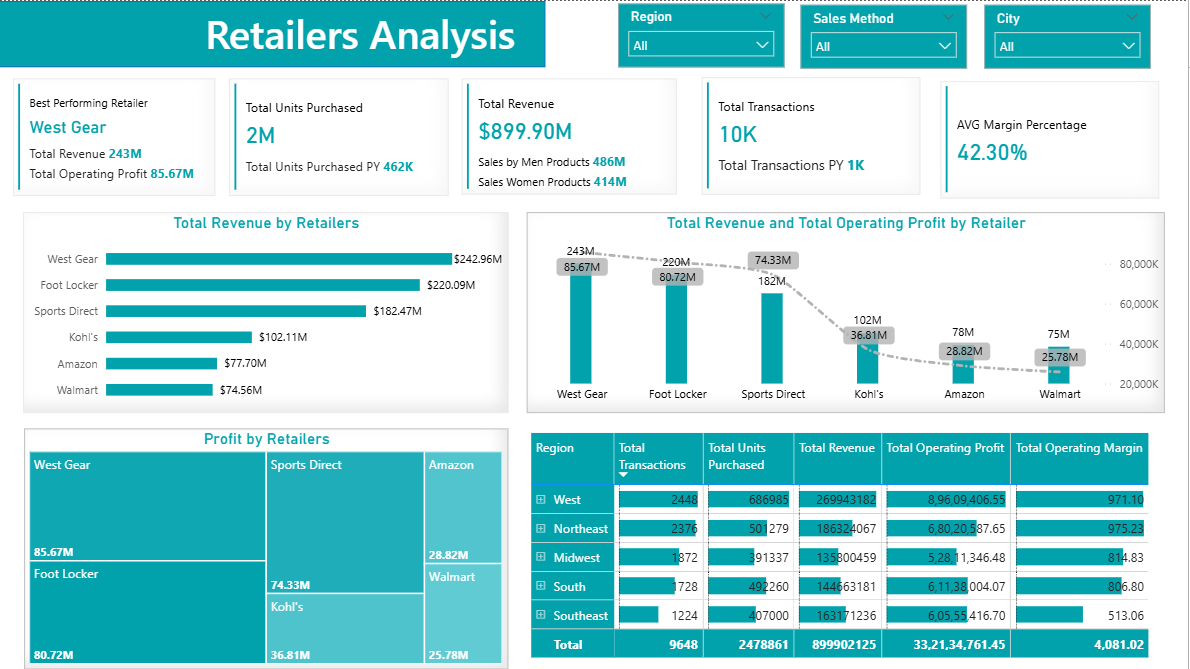

Layout of this report page (visuals, bound fields, positions):
{"tool":"powerbi","page":{"name":"Retailer Analysis","canvas":[1280,720],"ordinal":3},"visuals":[{"type":"textbox","box":[863.4,0,205.8,61.9],"z":0},{"type":"cardVisual","fields":{"Data":["Min(Sales Details.Retailer)"]},"box":[16.1,83.4,217.9,126.4],"z":1000},{"type":"cardVisual","fields":{"Data":["Measures Table.Total Transactions"]},"box":[757.1,82,235.3,126.4],"z":2000},{"type":"cardVisual","fields":{"Data":["Measures Table.AVG Margin Percentage"]},"box":[1014,86.1,235.3,126.4],"z":3000},{"type":"barChart","title":"Total Revenue by Retailers","fields":{"Category":["Sales Details.Retailer"],"Y":["Measures Table.Total Revenue"]},"box":[26.6,226.7,522.1,215.7],"z":4000},{"type":"lineStackedColumnComboChart","fields":{"Y":["Measures Table.Total Revenue"],"Y2":["Measures Table.Total Operating Profit"],"Category":["Sales Details.Retailer"]},"box":[569,226.7,686.3,215.7],"z":5000},{"type":"slicer","fields":{"Values":["Sales Details.Sales Method"]},"box":[863.4,4,178.9,68.6],"z":6000},{"type":"slicer","fields":{"Values":["Sales Details.Region"]},"box":[667,2.7,178.9,68.6],"z":7000},{"type":"slicer","fields":{"Values":["Sales Details.City"]},"box":[1061.1,4,178.9,68.6],"z":8000},{"type":"shape","box":[0,0,589,71.3],"z":9000},{"type":"textbox","box":[217.9,0,352.3,76.7],"z":10000},{"type":"cardVisual","fields":{"Data":["Measures Table.Total Revenue"]},"box":[498.7,82.9,231.4,125.1],"z":11000},{"type":"pivotTable","fields":{"Rows":["Sales Details.Region","Sales Details.Retailer"],"Values":["Measures Table.Total Transactions","Measures Table.Total Units Purchased","Measures Table.Total Revenue","Measures Table.Total Operating Profit","Sum(Sales Details.Operating Margin)"]},"box":[569,459.6,686.3,259.5],"z":12000},{"type":"treemap","title":"Profit by Retailers","fields":{"Values":["Measures Table.Total Operating Profit"],"Group":["Sales Details.Retailer"]},"box":[28.1,459.6,520.6,259.5],"z":13000},{"type":"cardVisual","fields":{"Data":["Measures Table.Total Units Purchased"]},"box":[248.6,82.9,236.1,126.6],"z":14000}]}

Visuals, with their boxes in screenshot pixels (x1, y1, x2, y2), scaled from the page's 1280x720 canvas onto the 1190x669 screenshot:
textbox: box=[803, 0, 994, 58]
cardVisual - Min(Sales Details.Retailer): box=[15, 77, 218, 195]
cardVisual - Measures Table.Total Transactions: box=[704, 76, 923, 194]
cardVisual - Measures Table.AVG Margin Percentage: box=[943, 80, 1161, 197]
"Total Revenue by Retailers" barChart: box=[25, 211, 510, 411]
lineStackedColumnComboChart - Measures Table.Total Revenue x Measures Table.Total Operating Profit: box=[529, 211, 1167, 411]
slicer - Sales Details.Sales Method: box=[803, 4, 969, 67]
slicer - Sales Details.Region: box=[620, 3, 786, 66]
slicer - Sales Details.City: box=[986, 4, 1153, 67]
shape: box=[0, 0, 548, 66]
textbox: box=[203, 0, 530, 71]
cardVisual - Measures Table.Total Revenue: box=[464, 77, 679, 193]
pivotTable - Sales Details.Region x Sales Details.Retailer: box=[529, 427, 1167, 668]
"Profit by Retailers" treemap: box=[26, 427, 510, 668]
cardVisual - Measures Table.Total Units Purchased: box=[231, 77, 451, 195]
